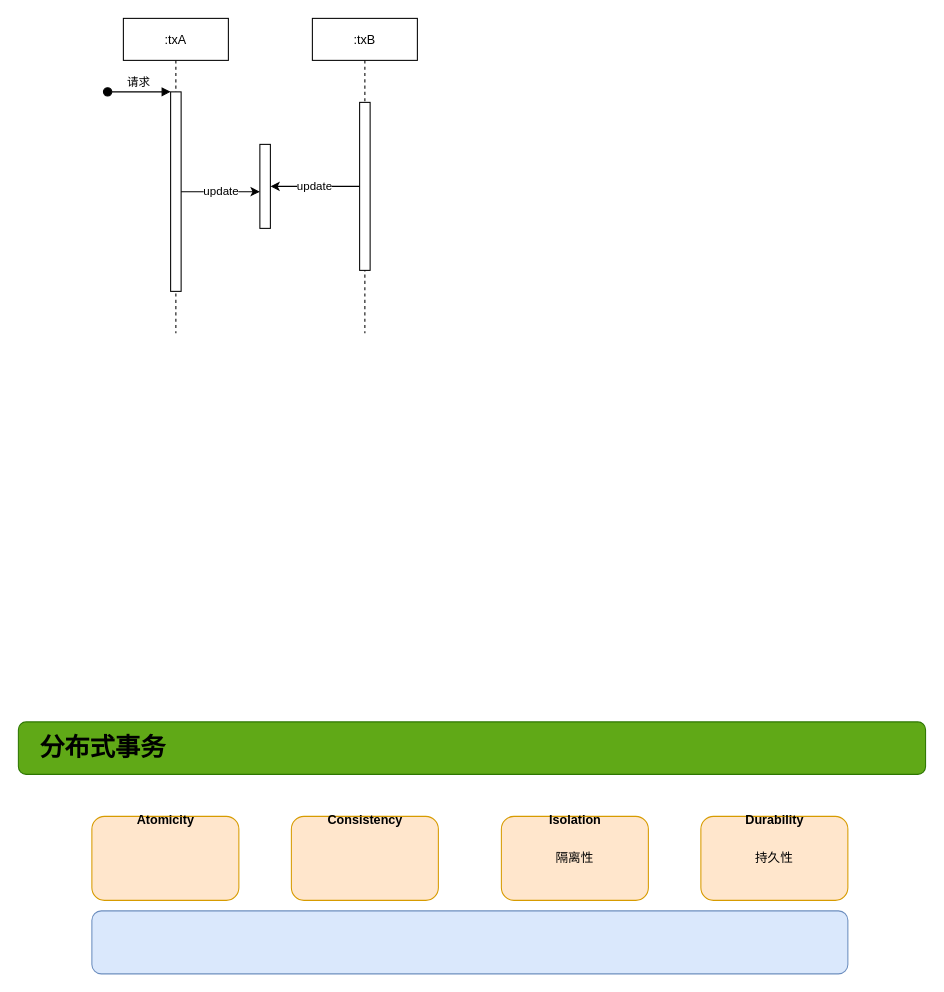
Some shapes in this 944 by 992 pixel diagram are drawn without their labels. Here are the shapes that lost their labels. From the top down, the box of each, then its label:
(91, 815, 239, 900): 原子性
(290, 815, 438, 900): 一致性
(91, 910, 848, 974): 要么全部成功，要么全部失败
